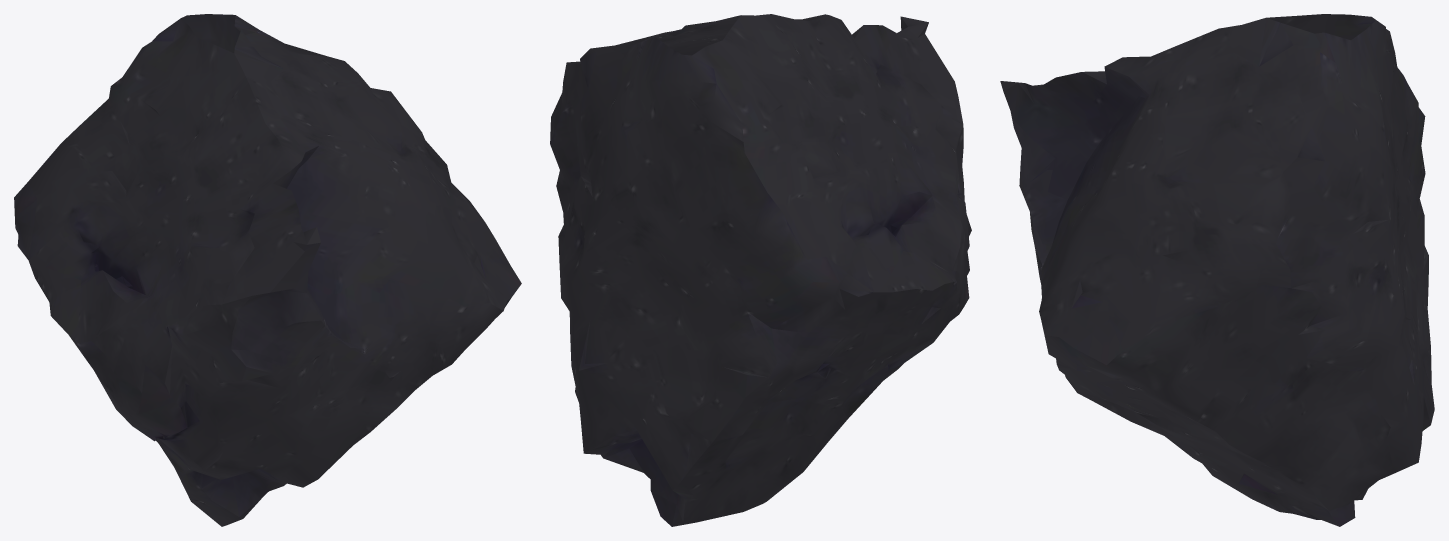
File: rock-small-debris.glb
The picture shows the model from 3 angles, left to right: view 1: azimuth 30°, elevation 25°; view 2: azimuth 150°, elevation 25°; view 3: azimuth 270°, elevation 25°; orthographic projection. The views are drawn at different scales.
Visible parts, largest first — view 1: Rock_F_SmallDebris; view 2: Rock_F_SmallDebris; view 3: Rock_F_SmallDebris.
Boxes of the visible parts, bbox=[...] form: Rock_F_SmallDebris: bbox=[14, 14, 521, 526]; Rock_F_SmallDebris: bbox=[550, 14, 971, 526]; Rock_F_SmallDebris: bbox=[1000, 14, 1434, 526].
Bounding box in the file's own units: 0.3218 × 0.3617 × 0.2909.
Materials: 1 (1 with a texture image).
